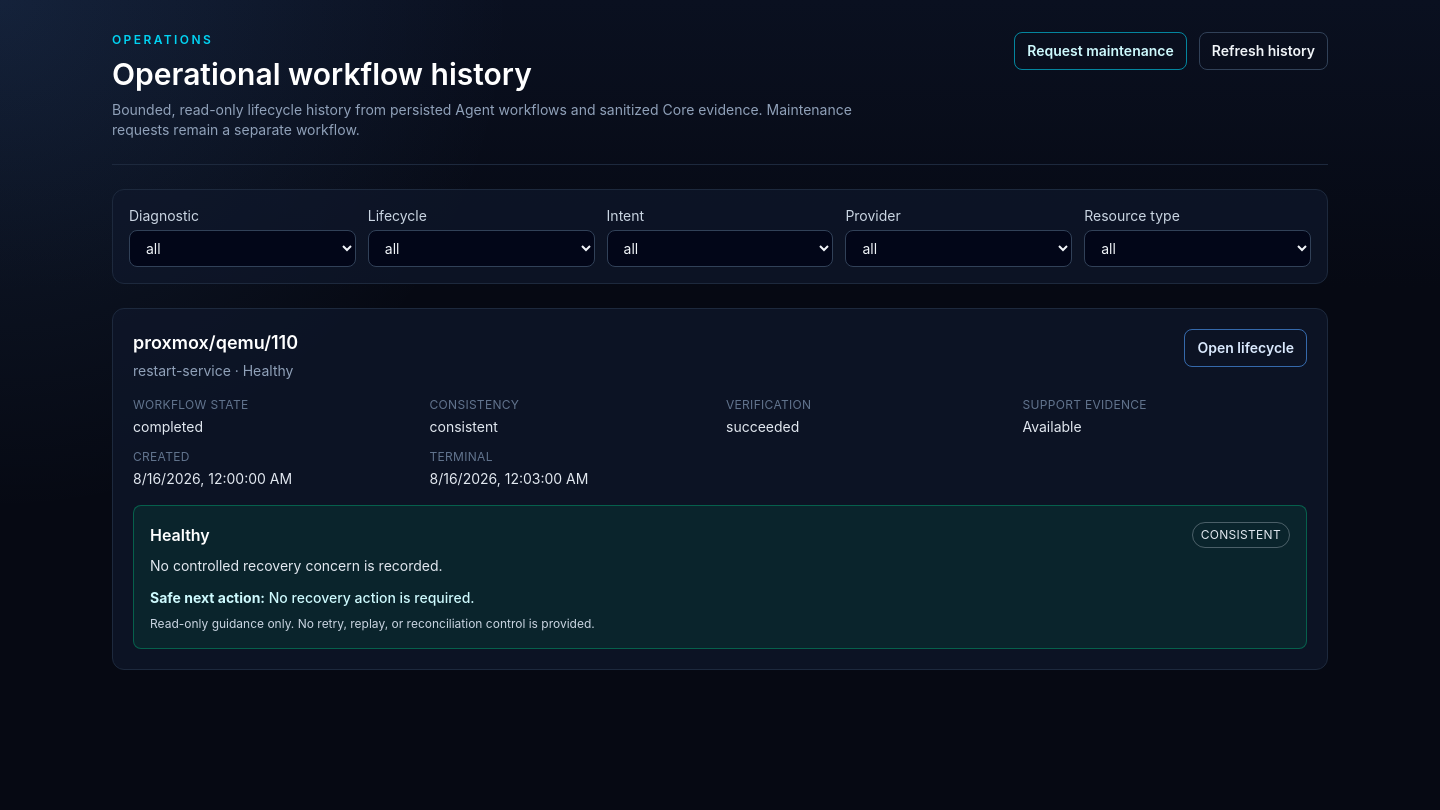
Test: OperationalHistoryPage › filters only the bounded current page by controlled diagnostic status
expect the heading "proxmox/qemu/110" is shown: met, box [133, 329, 298, 357]
Select "attention required" in the dropdown labelled "Diagnostic" at (242, 248), box [129, 230, 356, 267]
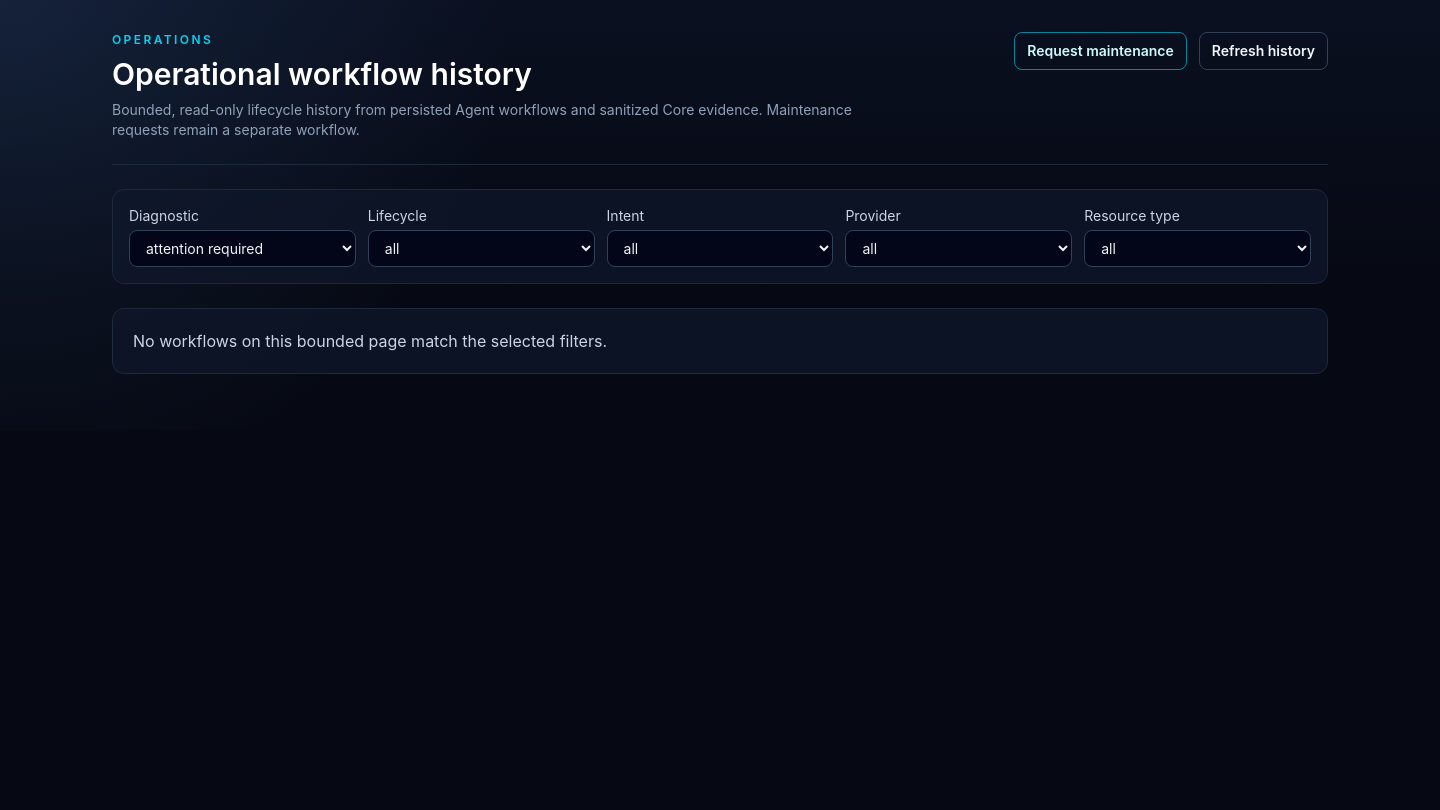
expect the text "No workflows on this bounded page match the selected filters." is shown: met, box [112, 308, 1328, 374]
